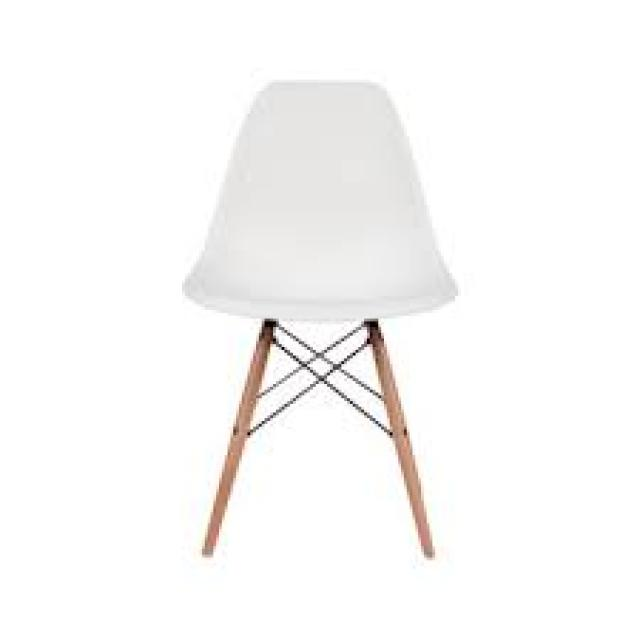chair: (145, 56, 476, 626)
